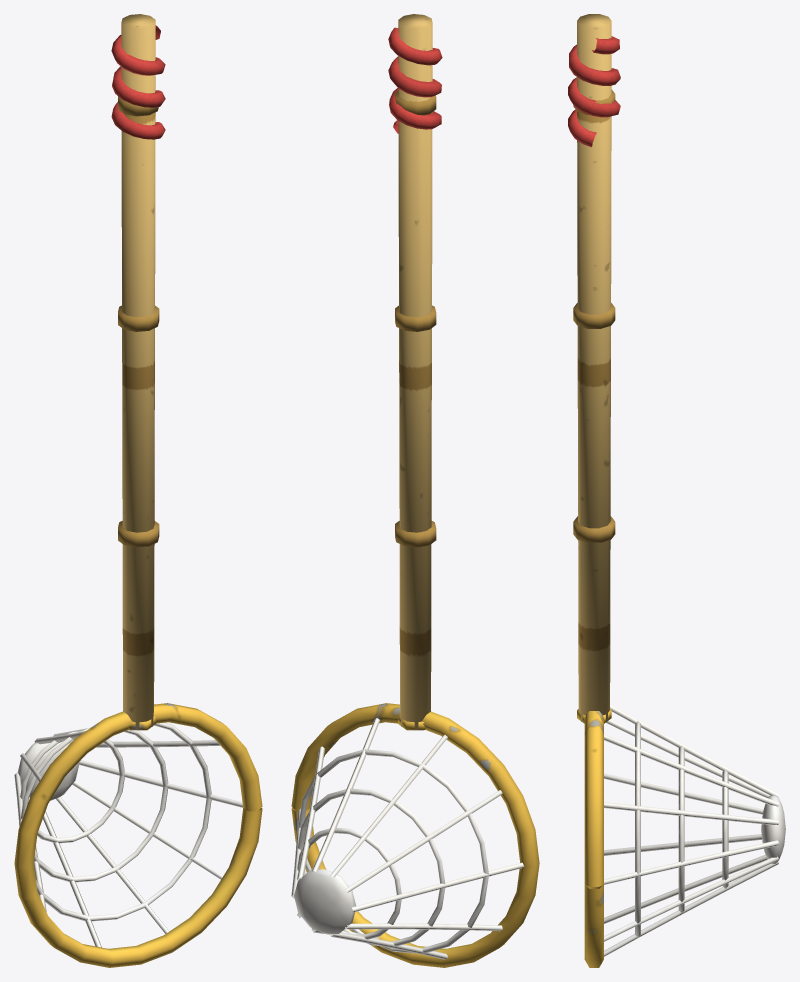
File: tool_net.glb
3 renders of one model, left to right at view 1: azimuth 30°, elevation 25°; view 2: azimuth 150°, elevation 25°; view 3: azimuth 270°, elevation 25°, orthographic.
Parts seen in each view (by area): view 1: Tool; view 2: Tool; view 3: Tool.
Boxes of the visible parts, x1,y1,x2,y2 form: Tool: (14, 14, 262, 967); Tool: (291, 14, 539, 967); Tool: (568, 14, 785, 967).
Bounding box in the file's own units: 0.319 × 1.18 × 0.2492.
Materials: 1 (1 with a texture image).
